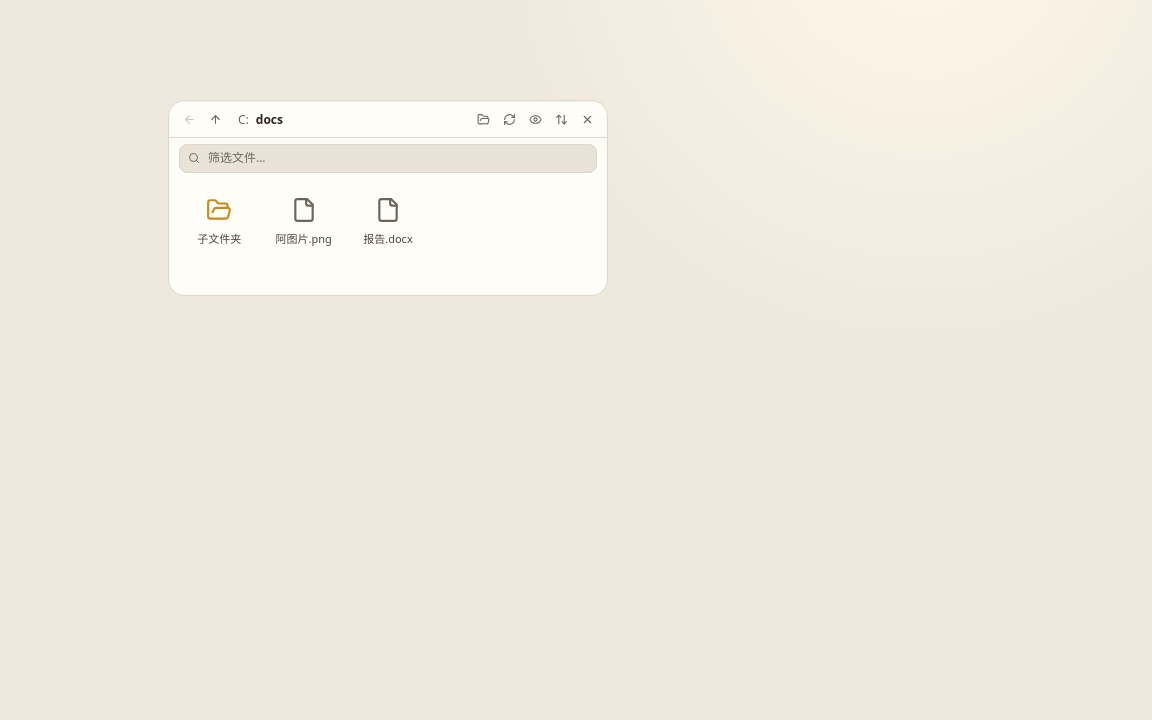
Scenario: FolderPopup 组件 › 渲染目录条目：目录在前，点击子文件夹就地下钻、标题跟随
This screenshot has width=1152, height=720.
Expected: the dialog is shown, [168,100,608,296]
Expected: the text "子文件夹" is shown, [197,232,241,246]
Step 1. Click the button "子文件夹" → (219,221), box [197,197,241,246]
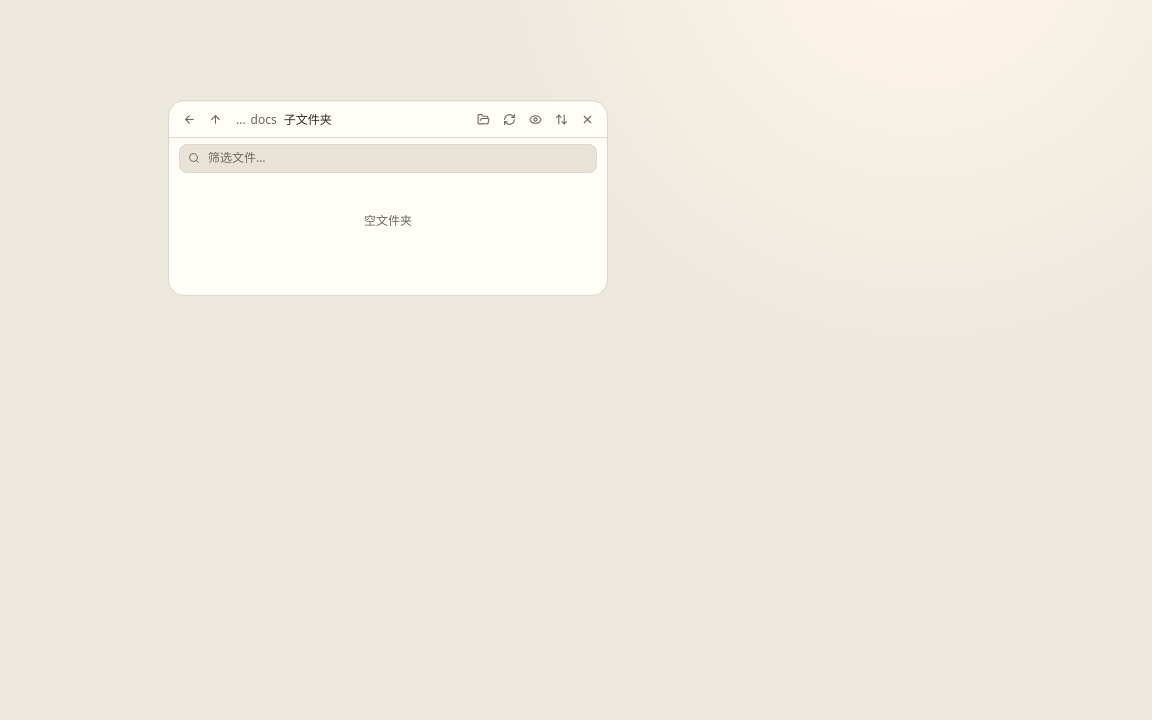
Expected: the navigation bar titled "C:/docs/子文件夹" is shown, [236,108,332,130]
